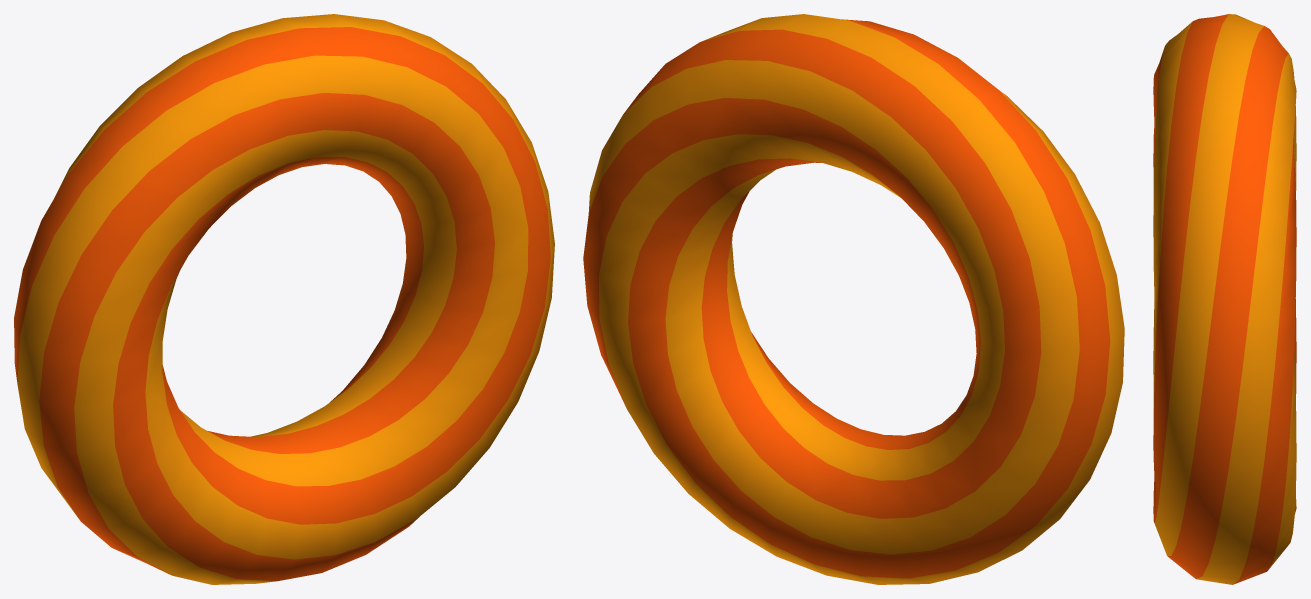
Rendered from lollipop_029.glb.
3 views of the same model, side by side, from view 1: azimuth 30°, elevation 25°; view 2: azimuth 150°, elevation 25°; view 3: azimuth 270°, elevation 25° (orthographic). The views are drawn at different scales.
Parts seen in each view (by area): view 1: lollipop_029; view 2: lollipop_029; view 3: lollipop_029.
Part boxes in pixels (box(x1,y1,x2,y2)): lollipop_029: box(14, 14, 554, 584); lollipop_029: box(583, 14, 1124, 584); lollipop_029: box(1153, 14, 1296, 584).
Bounding box in the file's own units: 5.9 × 5.91 × 1.48.
Materials: 1 (1 with a texture image).
